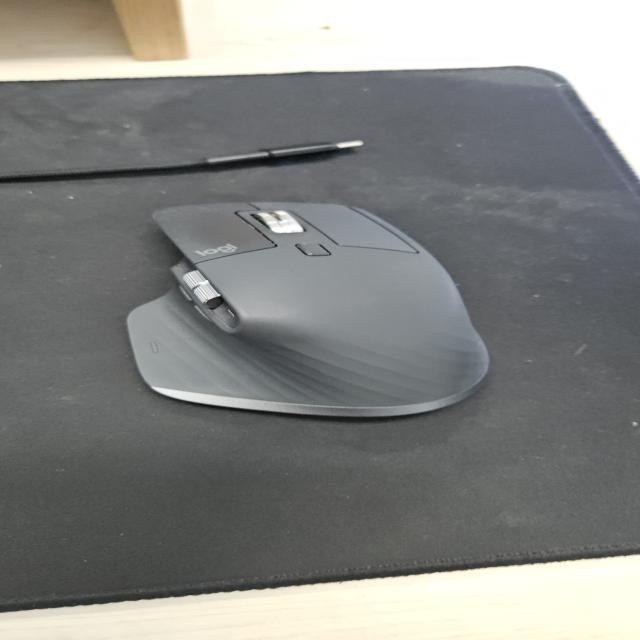Mouse: (123, 198, 494, 419)
